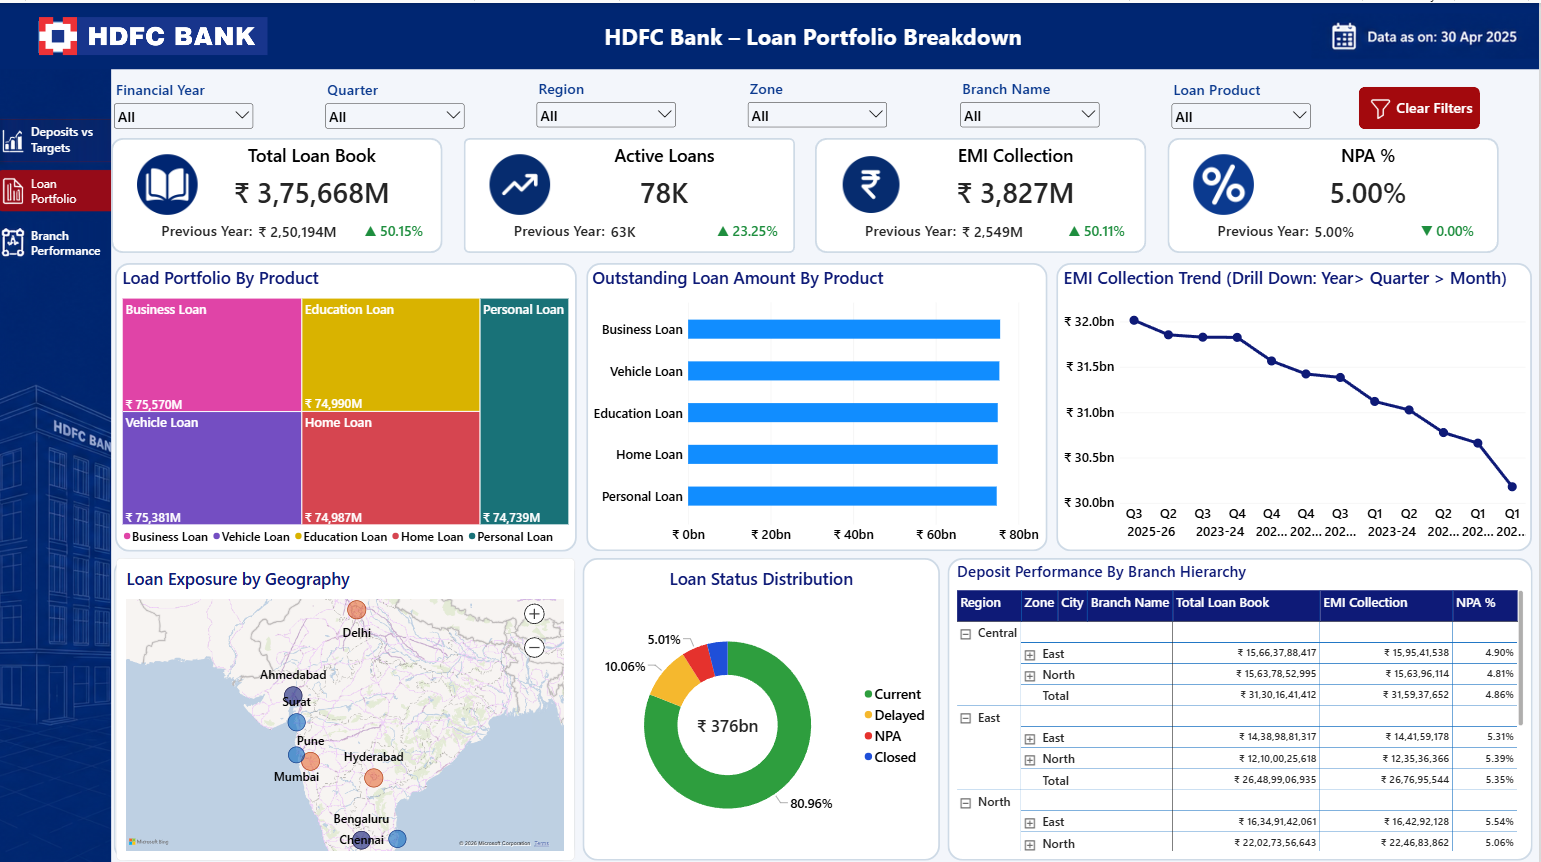

What the dashboard file says about the page in this screenshot:
{"tool":"powerbi","page":{"name":"Loan Portfolio","canvas":[2560,1440],"ordinal":1},"visuals":[{"type":"shape","title":"Header","box":[0,0,2560.8,110.2],"z":0,"group":"g11"},{"type":"image","box":[0,2.5,185,1437.5],"z":0},{"type":"slicer","title":"Year","fields":{"Values":["Dim Date.Financial Year"]},"box":[184,124,241.1,89.4],"z":0,"group":"g9"},{"type":"actionButton","box":[2257.8,139.2,201.6,70.7],"z":0,"group":"g10"},{"type":"shape","box":[1941.3,224.5,550.8,191.2],"z":0,"group":"g1"},{"type":"shape","box":[185,225,550.8,191.2],"z":0,"group":"g8"},{"type":"shape","box":[771,225,550.8,191.2],"z":0,"group":"g7"},{"type":"shape","box":[1356.2,225,550.8,191.2],"z":0,"group":"g6"},{"type":"textbox","box":[2023.8,362.1,175,33.6],"z":0,"group":"g2"},{"type":"textbox","box":[267.5,362.6,175,33.6],"z":0,"group":"g3"},{"type":"textbox","box":[853.5,362.6,175,33.6],"z":0,"group":"g4"},{"type":"textbox","box":[1438.7,362.6,175,33.6],"z":0,"group":"g5"},{"type":"shape","title":"Logo 2nd","box":[64.7,30.9,64.7,50.8],"z":1000,"group":"g11"},{"type":"slicer","title":"Qua","fields":{"Values":["Dim Date.Quarter"]},"box":[535.6,123.7,241.1,89.4],"z":1000,"group":"g9"},{"type":"image","box":[2276.5,145.4,35.3,62.4],"z":1000,"group":"g10"},{"type":"group","id":"g1","title":"4th KPI","box":[1941.3,224.5,550.8,189.1],"z":1000},{"type":"group","id":"g2","title":"Side-KPI","box":[2023.8,358.3,461.2,40],"z":1000,"group":"g1"},{"type":"group","id":"g3","title":"Side-KPI","box":[267.5,358.8,461.2,40],"z":1000,"group":"g8"},{"type":"group","id":"g4","title":"Side-KPI","box":[853.5,358.8,461.2,40],"z":1000,"group":"g7"},{"type":"group","id":"g5","title":"Side-KPI","box":[1438.7,358.8,461.2,40],"z":1000,"group":"g6"},{"type":"cardVisual","fields":{"Data":["Measures_2.NPA % PY"]},"box":[2170,365.8,165,27.5],"z":1000,"group":"g2"},{"type":"cardVisual","fields":{"Data":["Measures_2.Total Loan Book PY"]},"box":[413.7,366.3,165,27.5],"z":1000,"group":"g3"},{"type":"cardVisual","fields":{"Data":["Measures_2.Active Loans PY"]},"box":[999.7,366.3,165,27.5],"z":1000,"group":"g4"},{"type":"cardVisual","fields":{"Data":["Measures_2.EMI Collection PY"]},"box":[1584.9,366.3,165,27.5],"z":1000,"group":"g5"},{"type":"image","title":"Logo","box":[0,0,509.2,110.2],"z":2000,"group":"g11"},{"type":"slicer","title":"Region","fields":{"Values":["Dim Branch.Region"]},"box":[887.2,122.7,241.1,89.4],"z":2000,"group":"g9"},{"type":"cardVisual","fields":{"Data":["Measures_2.NPA %"]},"box":[2109.9,230.1,330.8,119.9],"z":2000,"group":"g1"},{"type":"cardVisual","fields":{"Data":["Measures_2.Total Loan Book"]},"box":[353.6,230.6,330.8,119.9],"z":2000,"group":"g8"},{"type":"cardVisual","fields":{"Data":["Measures_2.Active Loans"]},"box":[939.6,230.6,330.8,119.9],"z":2000,"group":"g7"},{"type":"cardVisual","fields":{"Data":["Measures_2.EMI Collection"]},"box":[1524.8,230.6,330.8,119.9],"z":2000,"group":"g6"},{"type":"cardVisual","title":"%","fields":{"Data":["Measures_2.NPA Change Label"]},"box":[2345,358.3,140,40],"z":2000,"group":"g2"},{"type":"cardVisual","title":"%","fields":{"Data":["Measures_2.Loan Book Growth Label"]},"box":[588.7,358.8,140,40],"z":2000,"group":"g3"},{"type":"cardVisual","title":"%","fields":{"Data":["Measures_2.Active Loans Growth Label"]},"box":[1174.7,358.8,140,40],"z":2000,"group":"g4"},{"type":"cardVisual","title":"%","fields":{"Data":["Measures_2.EMI Growth Label"]},"box":[1759.9,358.8,140,40],"z":2000,"group":"g5"},{"type":"shape","box":[192,432,768,480],"z":2000},{"type":"textbox","title":"Heading","box":[796.1,29,1112.5,51.2],"z":3000,"group":"g11"},{"type":"slicer","title":"Zone","fields":{"Values":["Dim Branch.Zone"]},"box":[1238.8,122.3,241.1,89.4],"z":3000,"group":"g9"},{"type":"group","id":"g6","title":"3rd KPI","box":[1356.2,225,550,190],"z":3000},{"type":"image","box":[1974.2,250.9,119.9,100.7],"z":3000,"group":"g1"},{"type":"image","box":[217.9,251.4,119.9,100.7],"z":3000,"group":"g8"},{"type":"image","box":[803.9,251.4,119.9,100.7],"z":3000,"group":"g7"},{"type":"image","box":[1389.1,251.4,119.9,100.7],"z":3000,"group":"g6"},{"type":"slicer","title":"Branch","fields":{"Values":["Dim Branch.Branch Name"]},"box":[1590.4,122,241.1,89.4],"z":4000,"group":"g9"},{"type":"group","id":"g7","title":"2nd KPI","box":[771,225,550,190],"z":4000},{"type":"slicer","title":"Product","fields":{"Values":["Dim Product.Product Name"]},"box":[1942,123.3,241.1,89.4],"z":5000,"group":"g9"},{"type":"group","id":"g8","title":"1st KPI","box":[185,225,550.8,191.2],"z":5000},{"type":"group","id":"g9","title":"Slicer","box":[184,122,2275.4,91.4],"z":6000},{"type":"group","id":"g10","title":"Clear Filter","box":[2257.8,139.2,201.6,70.7],"z":6000,"group":"g9"},{"type":"group","id":"g11","title":"Header","box":[0,0,2560,110],"z":7000},{"type":"shape","box":[975.6,431.5,767,479.4],"z":8000},{"type":"shape","box":[1757,431.5,791,479.4],"z":9000},{"type":"shape","box":[189.4,922.8,767,503.4],"z":10000},{"type":"shape","box":[968.4,922.8,594.5,503.4],"z":11000},{"type":"shape","box":[1574.8,922.8,973.2,503.4],"z":12000},{"type":"treemap","title":"Load Portfolio By Product","fields":{"Group":["Dim Product.Product Name"],"Values":["Measures_2.Total Loan Book"]},"box":[194.2,431.5,762.2,479.4],"z":13000},{"type":"clusteredBarChart","title":"Outstanding Loan Amount By Product","fields":{"Category":["Dim Product.Product Name"],"Y":["Measures_2.Total Loan Book"]},"box":[975.6,431.5,762.2,479.4],"z":14000},{"type":"lineChart","title":"EMI Collection Trend (Drill Down: Year> Quarter > Month)","fields":{"Category":["Dim Date.Financial Year","Dim Date.Quarter"],"Y":["Measures_2.Total Loan Book"]},"box":[1759.4,431.5,788.6,479.4],"z":15000},{"type":"map","title":"Loan Exposure by Geography","fields":{"Category":["Dim Branch.City"],"Size":["Measures_2.Total Loan Book"]},"box":[194.2,922.8,762.2,503.4],"z":16000},{"type":"donutChart","title":"Loan Status Distribution","fields":{"Category":["Fact Loan Repayments.Loan Status"],"Y":["Measures_2.Total Loan Book"]},"box":[968.6,922.9,594.5,503],"z":17000},{"type":"pivotTable","title":"Deposit Performance By Branch Hierarchy","fields":{"Rows":["Dim Branch.Region","Dim Branch.Zone","Dim Branch.City","Dim Branch.Branch Name"],"Values":["Measures_2.Total Loan Book","Measures_2.EMI Collection","Measures_2.NPA %"]},"box":[1575.1,911.9,973.5,514],"z":18000},{"type":"image","box":[2180,0,380,110],"z":19000},{"type":"pageNavigator","box":[40,182.5,140,257.5],"z":20000}]}

Visuals, with their boxes on the page's 2560x1440 design canvas (x1, y1, x2, y2). These are canvas units, not pixel positions in the 1541x862 screenshot, which may show the page scaled, cropped or inside an application window:
"Header" shape: rect(0, 0, 2561, 110)
image: rect(0, 2, 185, 1440)
"Year" slicer: rect(184, 124, 425, 213)
actionButton: rect(2258, 139, 2459, 210)
shape: rect(1941, 224, 2492, 416)
shape: rect(185, 225, 736, 416)
shape: rect(771, 225, 1322, 416)
shape: rect(1356, 225, 1907, 416)
textbox: rect(2024, 362, 2199, 396)
textbox: rect(268, 363, 442, 396)
textbox: rect(854, 363, 1028, 396)
textbox: rect(1439, 363, 1614, 396)
"Logo 2nd" shape: rect(65, 31, 129, 82)
"Qua" slicer: rect(536, 124, 777, 213)
image: rect(2276, 145, 2312, 208)
"4th KPI" group: rect(1941, 224, 2492, 414)
"Side-KPI" group: rect(2024, 358, 2485, 398)
"Side-KPI" group: rect(268, 359, 729, 399)
"Side-KPI" group: rect(854, 359, 1315, 399)
"Side-KPI" group: rect(1439, 359, 1900, 399)
cardVisual - Measures_2.NPA % PY: rect(2170, 366, 2335, 393)
cardVisual - Measures_2.Total Loan Book PY: rect(414, 366, 579, 394)
cardVisual - Measures_2.Active Loans PY: rect(1000, 366, 1165, 394)
cardVisual - Measures_2.EMI Collection PY: rect(1585, 366, 1750, 394)
"Logo" image: rect(0, 0, 509, 110)
"Region" slicer: rect(887, 123, 1128, 212)
cardVisual - Measures_2.NPA %: rect(2110, 230, 2441, 350)
cardVisual - Measures_2.Total Loan Book: rect(354, 231, 684, 350)
cardVisual - Measures_2.Active Loans: rect(940, 231, 1270, 350)
cardVisual - Measures_2.EMI Collection: rect(1525, 231, 1856, 350)
"%" cardVisual: rect(2345, 358, 2485, 398)
"%" cardVisual: rect(589, 359, 729, 399)
"%" cardVisual: rect(1175, 359, 1315, 399)
"%" cardVisual: rect(1760, 359, 1900, 399)
shape: rect(192, 432, 960, 912)
"Heading" textbox: rect(796, 29, 1909, 80)
"Zone" slicer: rect(1239, 122, 1480, 212)
"3rd KPI" group: rect(1356, 225, 1906, 415)
image: rect(1974, 251, 2094, 352)
image: rect(218, 251, 338, 352)
image: rect(804, 251, 924, 352)
image: rect(1389, 251, 1509, 352)
"Branch" slicer: rect(1590, 122, 1832, 211)
"2nd KPI" group: rect(771, 225, 1321, 415)
"Product" slicer: rect(1942, 123, 2183, 213)
"1st KPI" group: rect(185, 225, 736, 416)
"Slicer" group: rect(184, 122, 2459, 213)
"Clear Filter" group: rect(2258, 139, 2459, 210)
"Header" group: rect(0, 0, 2560, 110)
shape: rect(976, 432, 1743, 911)
shape: rect(1757, 432, 2548, 911)
shape: rect(189, 923, 956, 1426)
shape: rect(968, 923, 1563, 1426)
shape: rect(1575, 923, 2548, 1426)
"Load Portfolio By Product" treemap: rect(194, 432, 956, 911)
"Outstanding Loan Amount By Product" clusteredBarChart: rect(976, 432, 1738, 911)
"EMI Collection Trend (Drill Down: Year> Quarter > Month)" lineChart: rect(1759, 432, 2548, 911)
"Loan Exposure by Geography" map: rect(194, 923, 956, 1426)
"Loan Status Distribution" donutChart: rect(969, 923, 1563, 1426)
"Deposit Performance By Branch Hierarchy" pivotTable: rect(1575, 912, 2549, 1426)
image: rect(2180, 0, 2560, 110)
pageNavigator: rect(40, 182, 180, 440)
